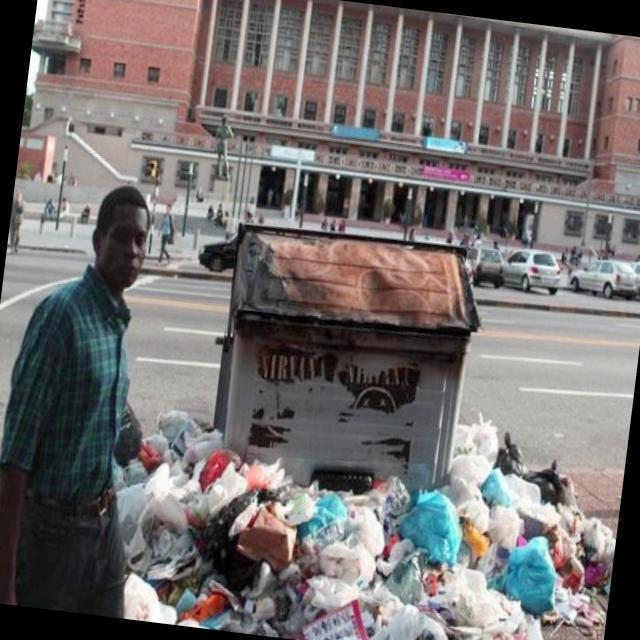garbage: (132, 415, 623, 640), (440, 415, 588, 563), (111, 387, 220, 571)
